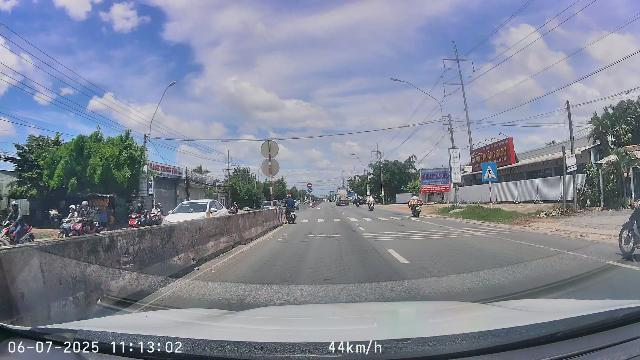423a-duong-nguoi-di-bo-sang-ngang-1: (481, 162, 498, 181)
